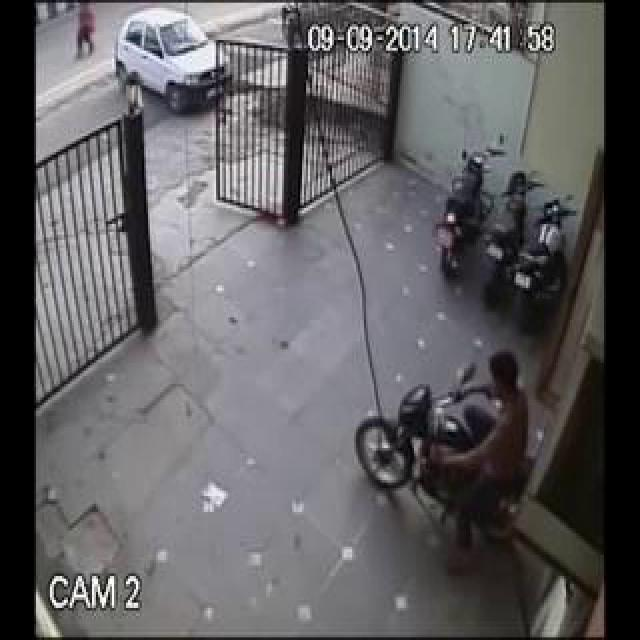stealing: (247, 100, 555, 600)
